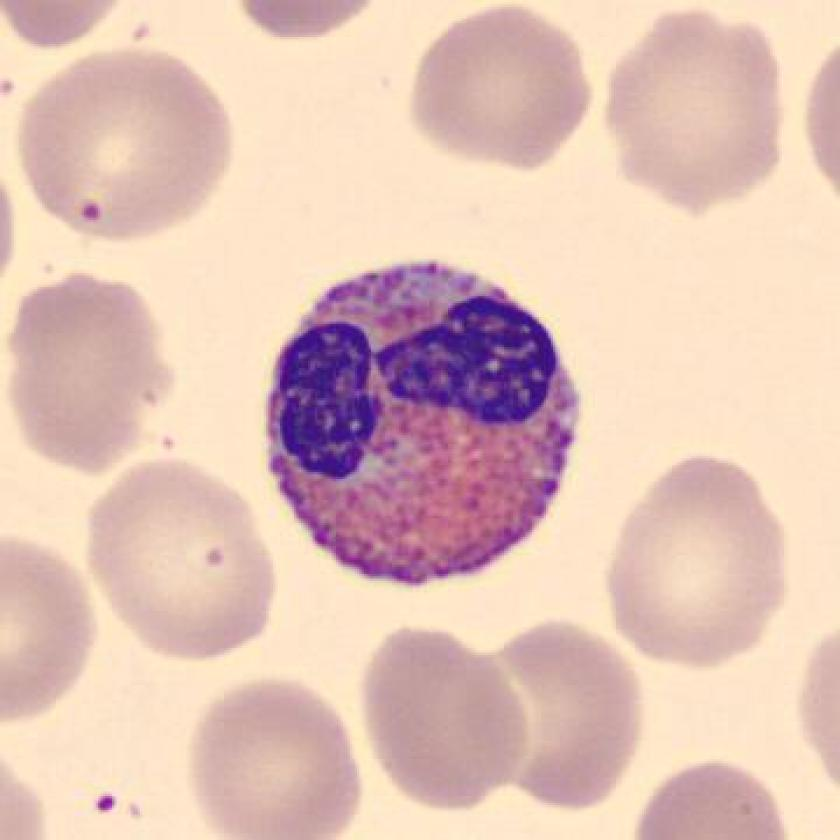eosinophil: (246, 249, 598, 598)
